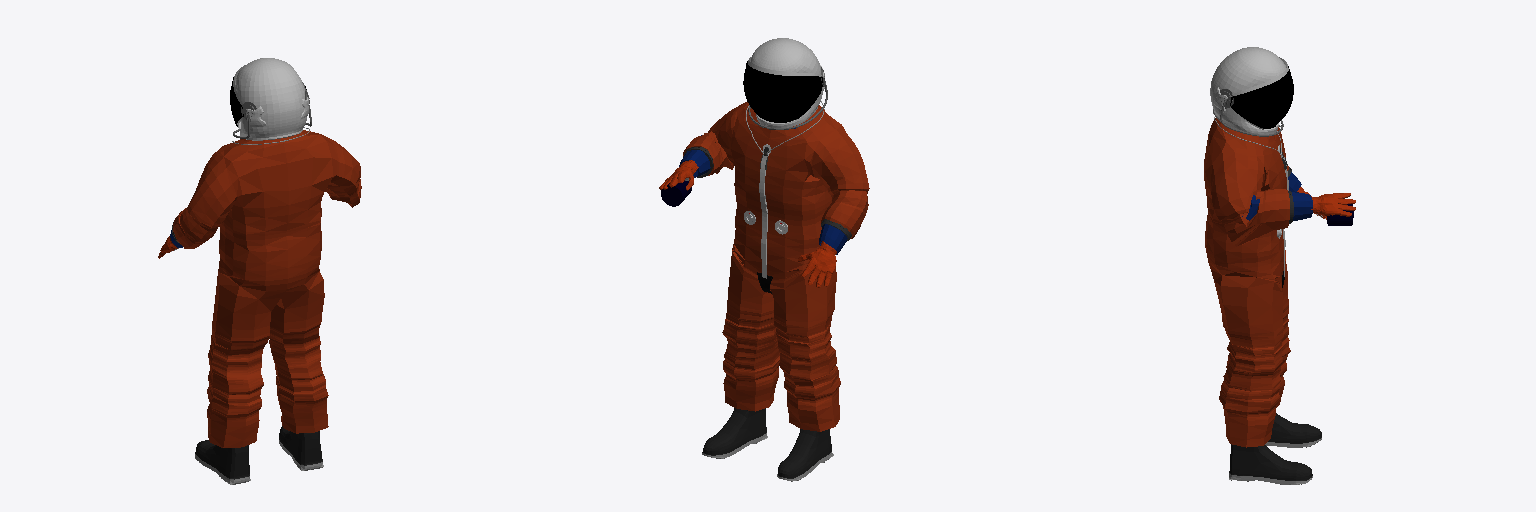
Rendered from cosmonaute.obj.
3 renders of one model, left to right at view 1: azimuth 30°, elevation 25°; view 2: azimuth 150°, elevation 25°; view 3: azimuth 270°, elevation 25°, orthographic.
Visible parts, largest first — view 1: acesjustforroomshow:ACES_INTERIOR_OBJ_polySurface1_acesjust.013; view 2: acesjustforroomshow:ACES_INTERIOR_OBJ_polySurface1_acesjust.013; view 3: acesjustforroomshow:ACES_INTERIOR_OBJ_polySurface1_acesjust.013.
Part boxes in pixels (bbox=[...]): acesjustforroomshow:ACES_INTERIOR_OBJ_polySurface1_acesjust.013: bbox=[158, 58, 361, 484]; acesjustforroomshow:ACES_INTERIOR_OBJ_polySurface1_acesjust.013: bbox=[659, 38, 869, 481]; acesjustforroomshow:ACES_INTERIOR_OBJ_polySurface1_acesjust.013: bbox=[1204, 47, 1355, 484].
Size of the model in its own units: 0.8822 by 2 by 0.6732.